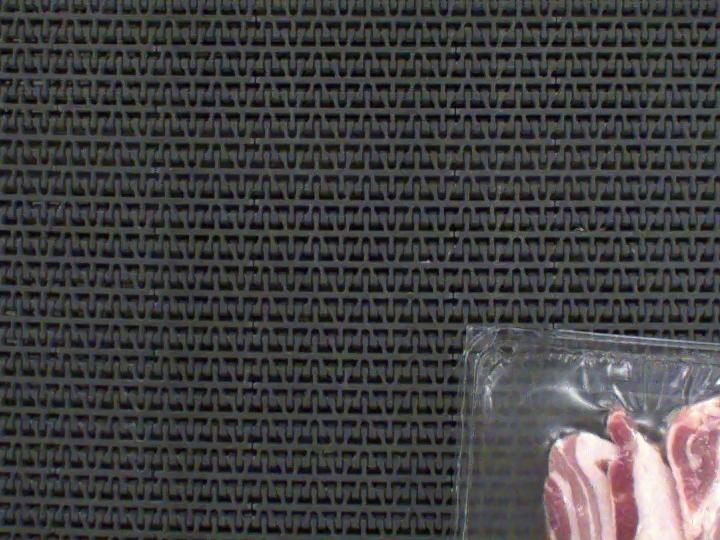unsealed: (517, 335, 720, 540)
